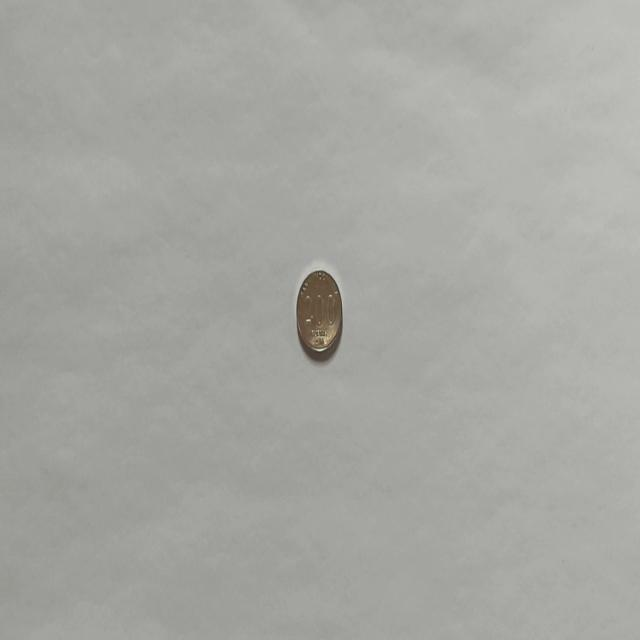dua ratus rupiah: (295, 266, 343, 358)
